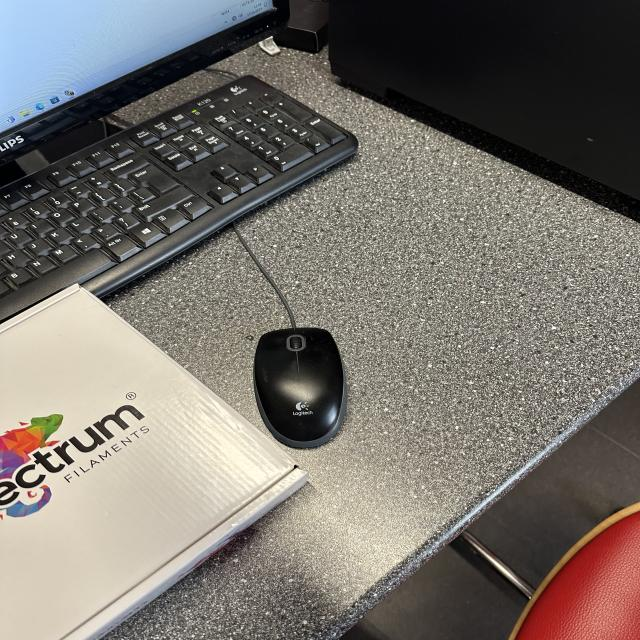mysz: (254, 322, 349, 450)
